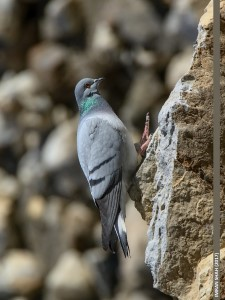pigeon: (70, 73, 160, 259)
